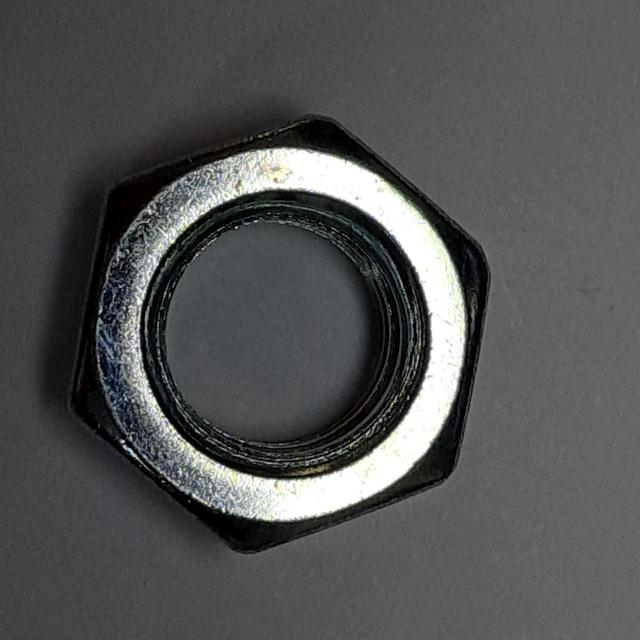Excellent: (51, 102, 500, 564)
